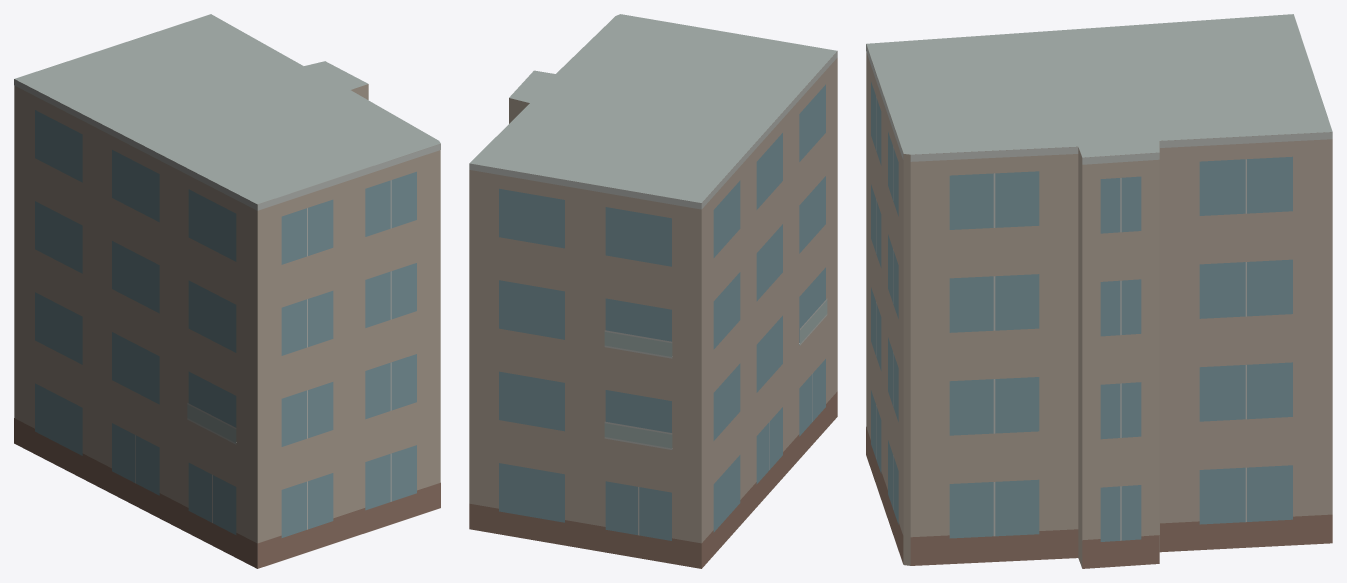
Rendered from survey-upis-32909504.glb.
The picture shows the model from 3 angles, left to right: view 1: azimuth 30°, elevation 25°; view 2: azimuth 150°, elevation 25°; view 3: azimuth 270°, elevation 25°; orthographic projection. The views are drawn at different scales.
Parts seen in each view (by area): view 1: survey-upis-32909504.tmp; view 2: survey-upis-32909504.tmp; view 3: survey-upis-32909504.tmp.
Part boxes in pixels (bbox=[...]): survey-upis-32909504.tmp: bbox=[14, 14, 440, 568]; survey-upis-32909504.tmp: bbox=[469, 14, 837, 568]; survey-upis-32909504.tmp: bbox=[866, 14, 1332, 568].
Size of the model in its own units: 10.42 by 13.9 by 14.3.
